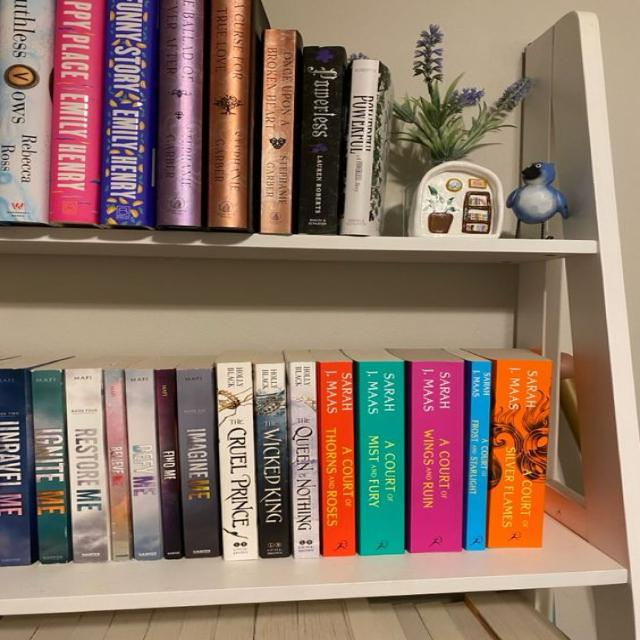book: (48, 0, 104, 223), (100, 0, 155, 226), (1, 0, 56, 222), (491, 359, 551, 549), (157, 0, 204, 228), (409, 360, 463, 553), (206, 0, 251, 231), (359, 361, 407, 557), (296, 45, 342, 234), (216, 362, 259, 560), (176, 368, 220, 559), (64, 367, 106, 563), (319, 361, 356, 556), (263, 30, 298, 234), (126, 369, 163, 561), (33, 369, 68, 564), (340, 61, 379, 234), (255, 363, 289, 557), (288, 362, 321, 557), (0, 367, 29, 567), (104, 369, 133, 561), (155, 369, 184, 559), (466, 361, 491, 551)
